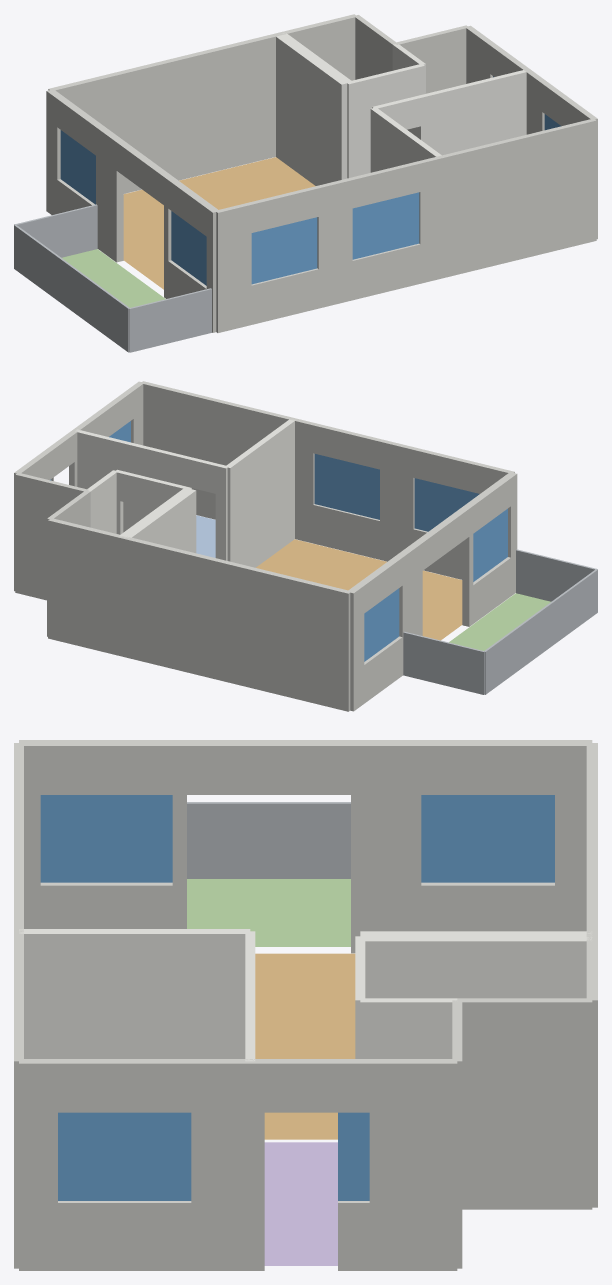
File: sample_plan_3d.obj
3 renders of one model, top to bottom at view 1: azimuth 30°, elevation 25°; view 2: azimuth 150°, elevation 25°; view 3: azimuth 270°, elevation 25°, orthographic. The views are drawn at different scales.
Parts seen in each view (by area): view 1: wall_W1_0, wall_W7_16, wall_W10_27, floor_R2_living_kitchen_50, wall_W5_8, railing_R1_47, wall_W6_9, wall_W6_12, railing_R1_48, window_N6_45, window_N5_44, wall_W8_20 (+28 smaller); view 2: wall_W1_0, wall_W2_1, wall_W7_16, wall_W9_26, floor_R2_living_kitchen_50, railing_R1_47, wall_W3_2, wall_W5_8, wall_W6_12, railing_R1_46, window_N6_45, wall_W10_27 (+31 smaller); view 3: wall_W9_26, wall_W11_28, wall_W13_30, wall_W10_27, wall_W8_20, floor_R2_living_kitchen_50, wall_W14_36, railing_R1_47, window_N3_42, window_N1_40, window_N4_43, floor_R1_balcony_49 (+23 smaller).
Boxes of the visible parts, left/top/right/bottom form: wall_W1_0: left=48, top=33, right=281, bottom=193; wall_W7_16: left=439, top=119, right=596, bottom=278; wall_W10_27: left=276, top=33, right=351, bottom=185; floor_R2_living_kitchen_50: left=123, top=157, right=315, bottom=289; wall_W5_8: left=418, top=70, right=526, bottom=155; railing_R1_47: left=14, top=224, right=129, bottom=352; wall_W6_9: left=215, top=202, right=251, bottom=332; wall_W6_12: left=316, top=178, right=352, bottom=308; railing_R1_48: left=129, top=288, right=211, bottom=352; window_N6_45: left=352, top=192, right=419, bottom=259; window_N5_44: left=251, top=217, right=317, bottom=284; wall_W8_20: left=96, top=125, right=123, bottom=262; wall_W1_0: left=122, top=536, right=350, bottom=711; wall_W2_1: left=48, top=518, right=124, bottom=656; wall_W7_16: left=140, top=381, right=294, bottom=519; wall_W9_26: left=226, top=419, right=294, bottom=567; floor_R2_living_kitchen_50: left=256, top=539, right=462, bottom=640; railing_R1_47: left=484, top=569, right=597, bottom=694; wall_W3_2: left=15, top=472, right=88, bottom=600; wall_W5_8: left=75, top=429, right=182, bottom=532; wall_W6_12: left=380, top=439, right=415, bottom=561; railing_R1_46: left=403, top=631, right=484, bottom=694; window_N6_45: left=314, top=454, right=379, bottom=519; wall_W10_27: left=119, top=487, right=196, bottom=553; wall_W9_26: left=19, top=929, right=250, bottom=1058; wall_W11_28: left=457, top=998, right=592, bottom=1209; wall_W13_30: left=369, top=1059, right=457, bottom=1270; wall_W10_27: left=360, top=931, right=592, bottom=998; wall_W8_20: left=351, top=740, right=421, bottom=953; floor_R2_living_kitchen_50: left=255, top=953, right=355, bottom=1139; wall_W14_36: left=191, top=1059, right=250, bottom=1270; railing_R1_47: left=187, top=802, right=350, bottom=878; window_N3_42: left=58, top=1112, right=191, bottom=1200; window_N1_40: left=421, top=795, right=554, bottom=882; window_N4_43: left=40, top=795, right=172, bottom=882; floor_R1_balcony_49: left=187, top=879, right=350, bottom=946.
Bounding box in the file's own units: 11.21 × 2.75 × 7.02.
